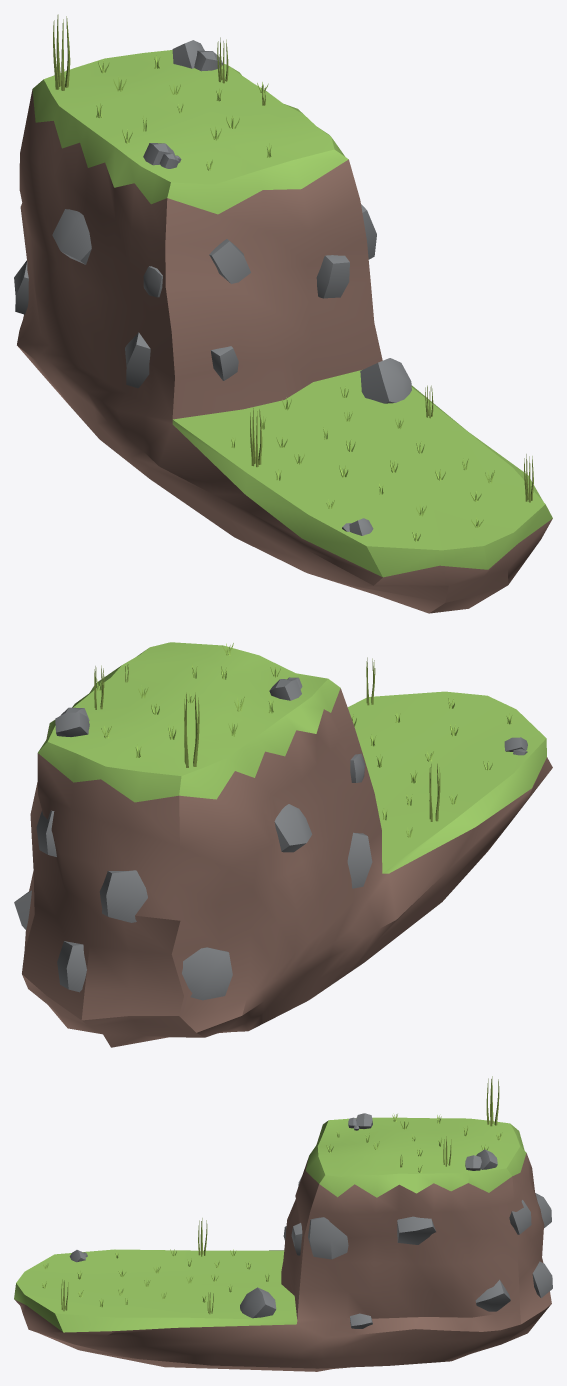
Rendered from vertical_island_spring_1.fbx.
3 views of the same model, one above another, from view 1: azimuth 30°, elevation 25°; view 2: azimuth 150°, elevation 25°; view 3: azimuth 270°, elevation 25° (orthographic). The views are drawn at different scales.
Visible parts, largest first — view 1: Vertical_Island_Autumn.001; view 2: Vertical_Island_Autumn.001; view 3: Vertical_Island_Autumn.001.
Part boxes in pixels (x1,y1,x2,y2): Vertical_Island_Autumn.001: [14, 14, 552, 613]; Vertical_Island_Autumn.001: [14, 642, 552, 1047]; Vertical_Island_Autumn.001: [14, 1076, 552, 1371].
Size of the model in its own units: 957 by 1487 by 2710.
